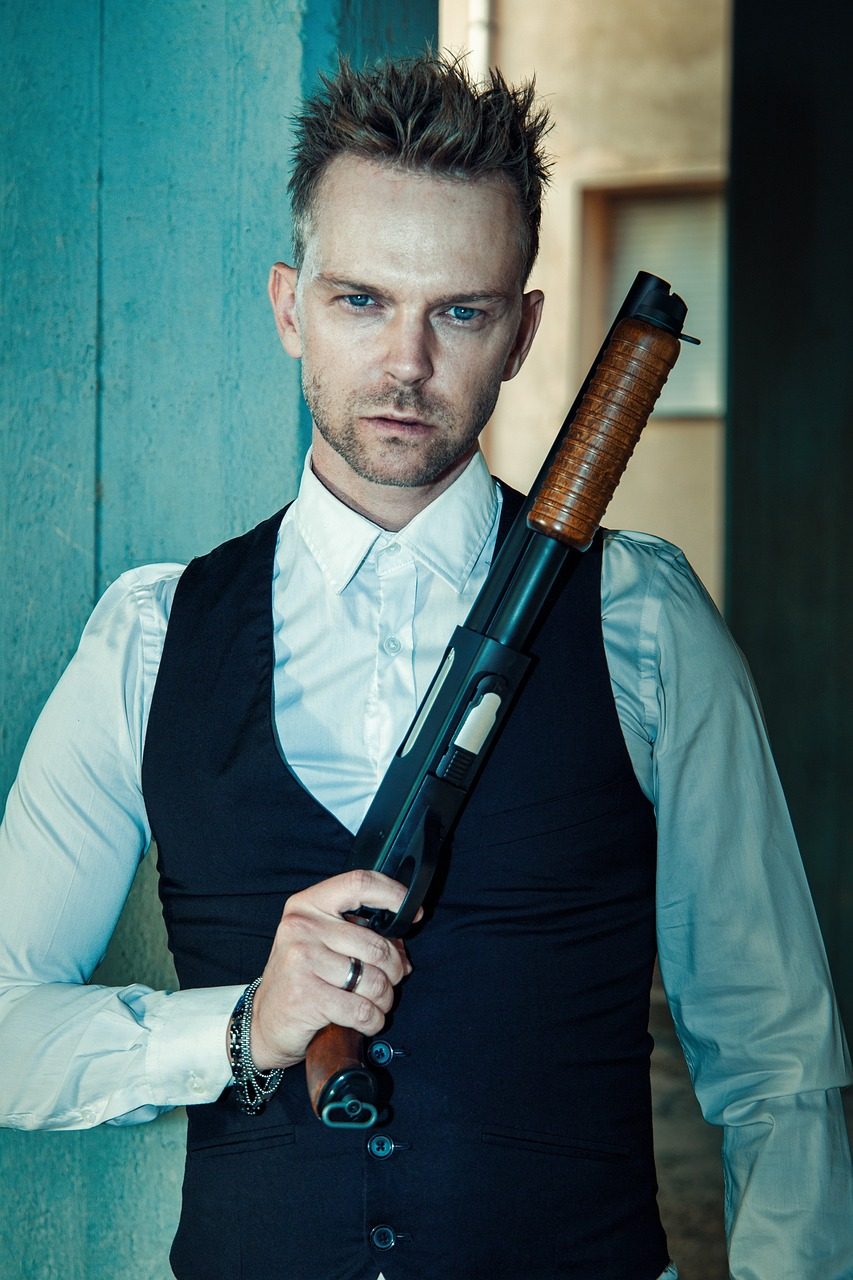gun: (297, 263, 707, 1136)
